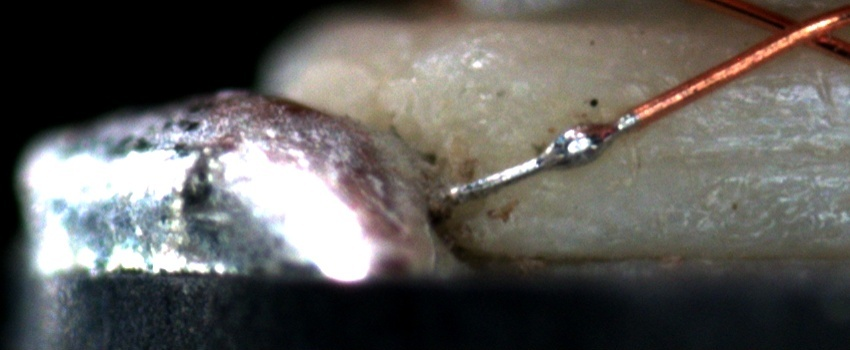CL: (750, 4, 842, 58)
DL: (636, 128, 850, 192), (620, 67, 850, 111)
TB: (539, 109, 630, 171)
TS: (448, 110, 639, 200)
TTCW: (438, 90, 669, 206)
